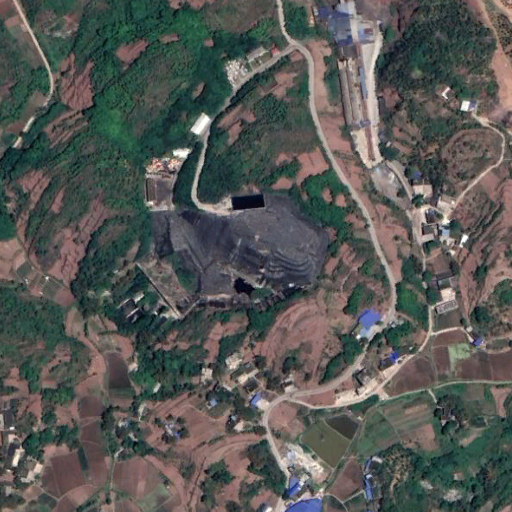lf: (169, 191, 329, 298)
